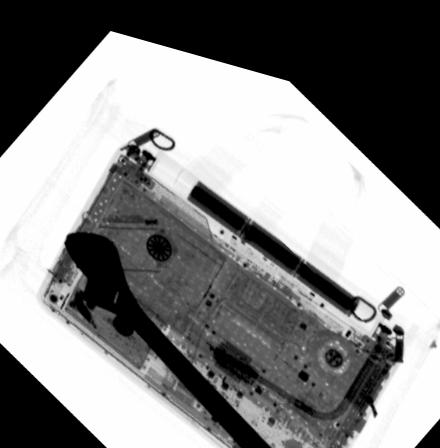Wrench: (62, 224, 279, 448)
